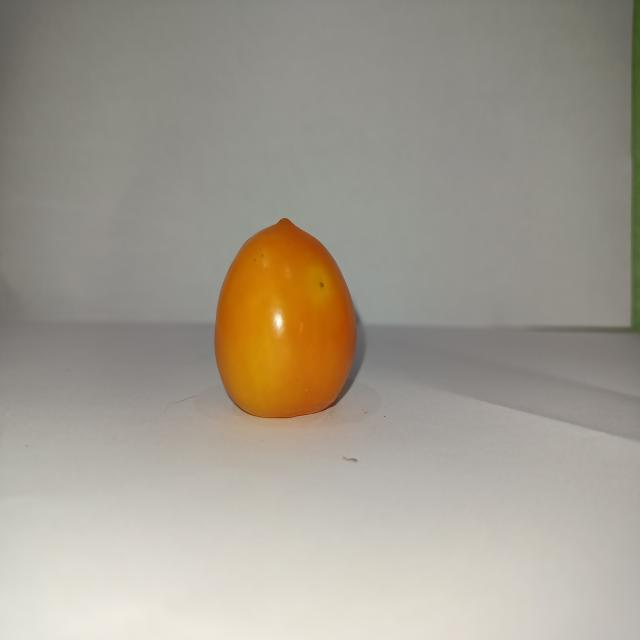Red: (213, 216, 358, 419)
